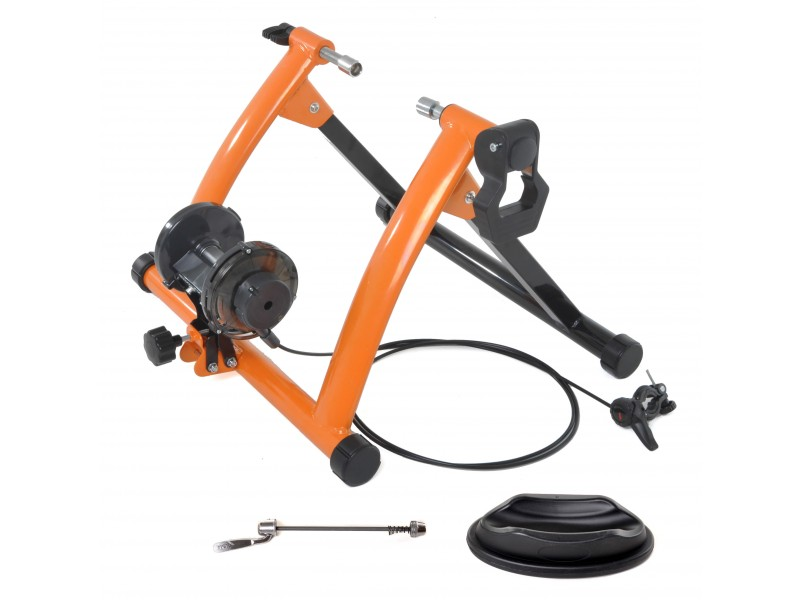gym_bike: (118, 49, 663, 527)
